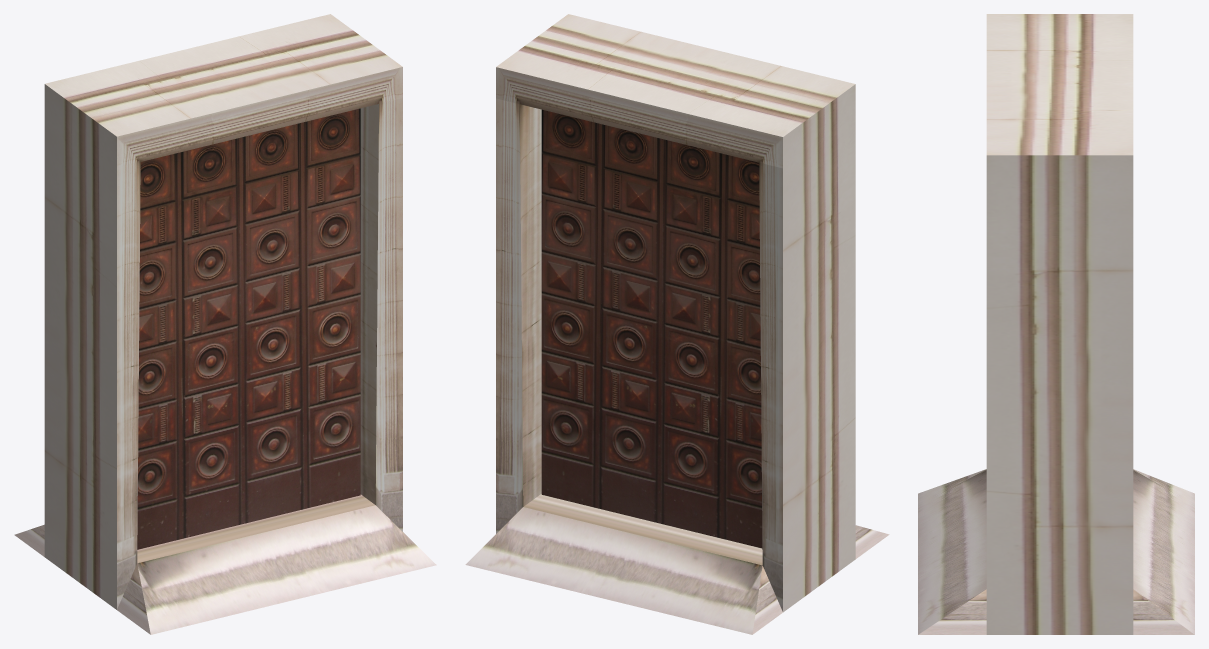
File: door_square.fbx
3 views of the same model, side by side, from view 1: azimuth 30°, elevation 25°; view 2: azimuth 150°, elevation 25°; view 3: azimuth 270°, elevation 25° (orthographic).
Parts seen in each view (by area): view 1: Cubo, Cubo.001; view 2: Cubo, Cubo.001; view 3: Cubo.
Boxes of the visible parts, x1,y1,x2,y2 form: Cubo: (14, 14, 436, 634); Cubo.001: (137, 108, 360, 549); Cubo: (465, 14, 889, 634); Cubo.001: (541, 109, 762, 548); Cubo: (918, 14, 1194, 634).
Bounding box in the file's own units: 4.8 × 7.59 × 3.97.
